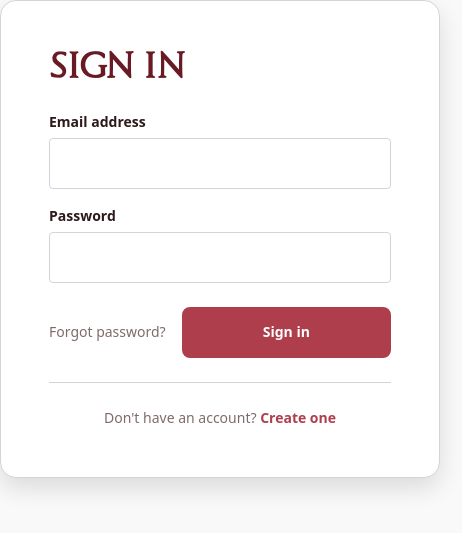
LoginPage — client-side validation › clears the email field error when the user starts typing again
This screenshot has width=462, height=533.
Type "bad" into the field labelled "Email address".
click(220, 164); type("bad")  # box [49,138,391,189]
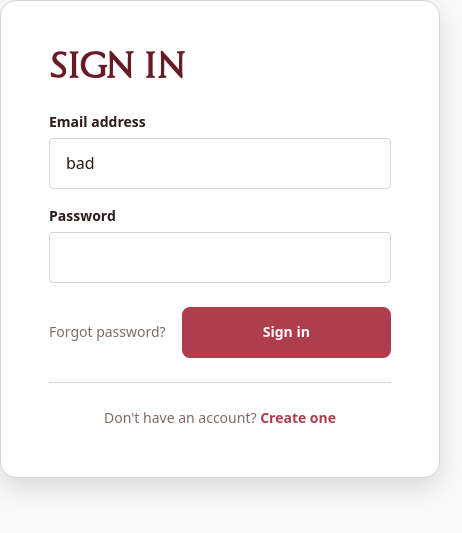
Type "pass" into the password field labelled "Password".
click(220, 258); type("pass")  # box [49,232,391,283]
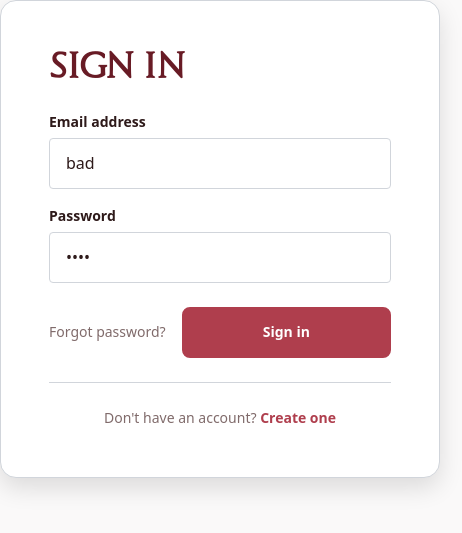
Click the button "Sign in".
click(286, 333)  # box [182,307,391,358]
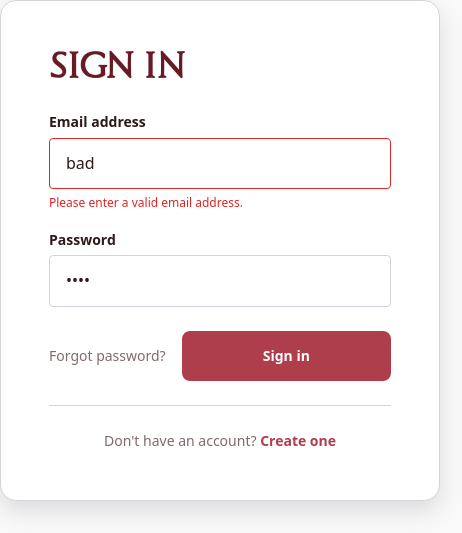
Result: the message "Please enter a valid email address." is shown at [49,194,243,211]
Replace the text in the field labelled "Email address" with "user@example.com" at (220, 164), box [49,138,391,189]
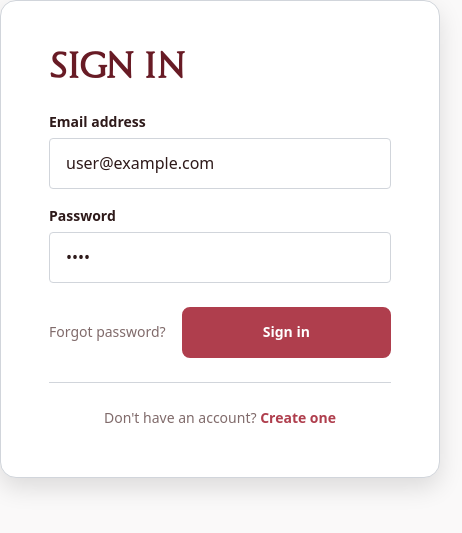
Result: the message "Please enter a valid email address." is gone
